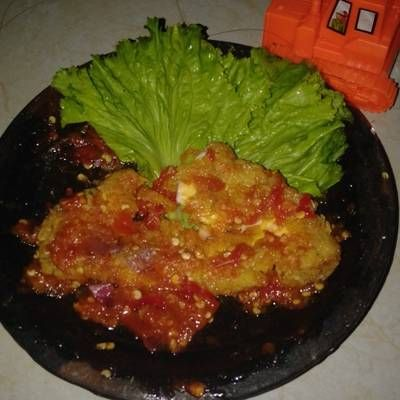ayam_geprek: (44, 162, 340, 346)
